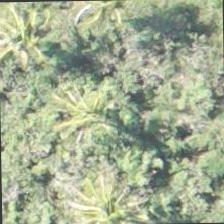Kelapa_Sawit: (41, 81, 133, 173), (49, 175, 141, 223), (0, 1, 59, 74)
